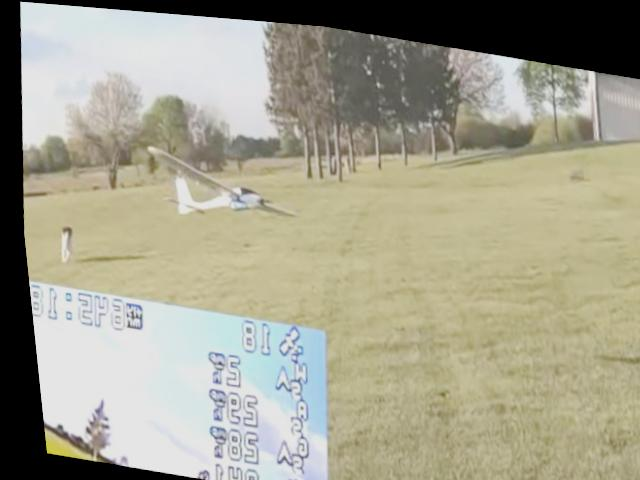iha: (130, 139, 300, 232)
